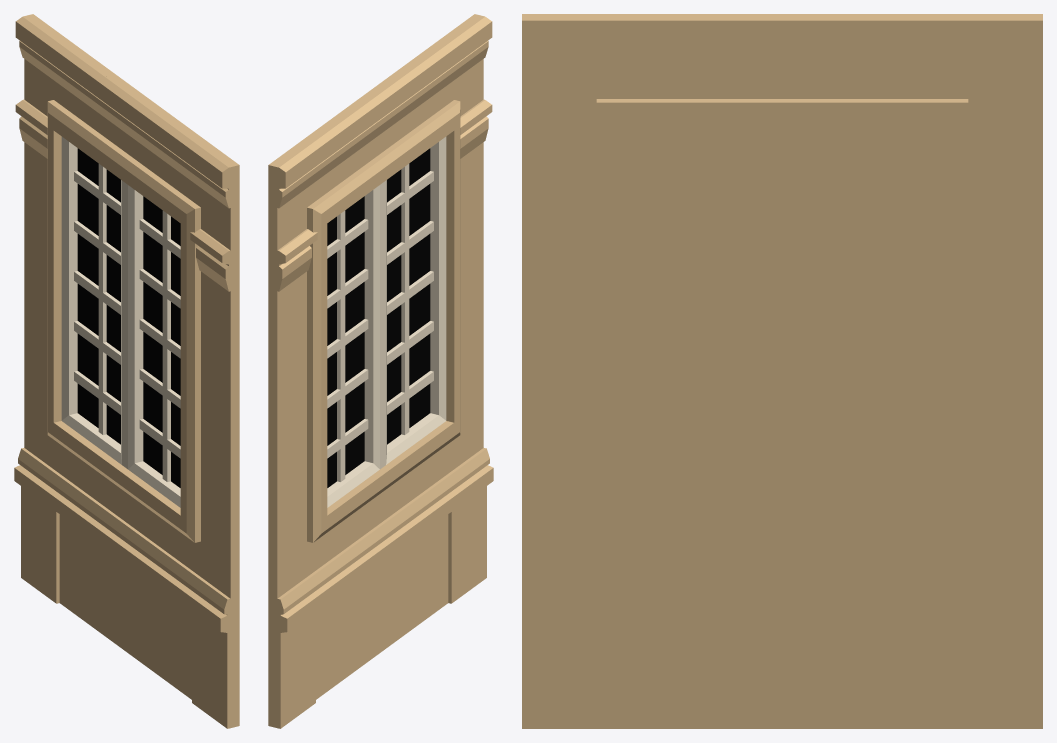
The model's file is Window_Single_1.fbx.
The picture shows the model from 3 angles, left to right: view 1: azimuth 30°, elevation 25°; view 2: azimuth 150°, elevation 25°; view 3: azimuth 270°, elevation 25°; orthographic projection. The views are drawn at different scales.
Visible parts, largest first — view 1: Window_Single_1; view 2: Window_Single_1; view 3: Window_Single_1.
Part boxes in pixels (x1,y1,x2,y2): Window_Single_1: (14,14,239,728); Window_Single_1: (268,14,493,728); Window_Single_1: (522,14,1042,728).
Size of the model in its own units: 14.15 by 200 by 300.
